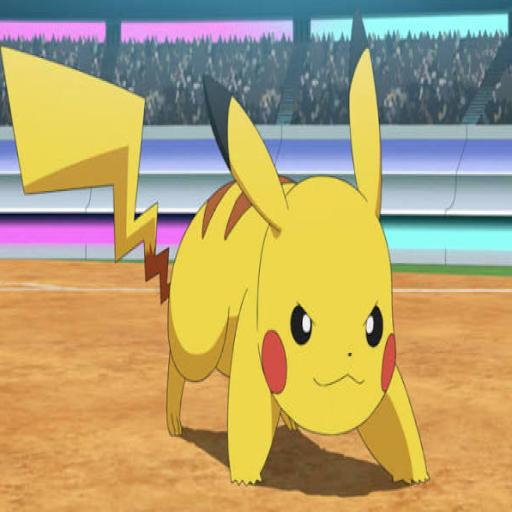Pikachu: (1, 8, 430, 488)
